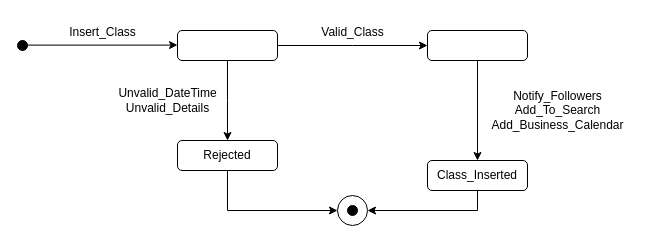
This 655x243 diagram has some shape labels left out. The centre of each missing label's shape, as x and y in pixels:
Accepted: the point at 477,45
Unprocessed: the point at 227,45
